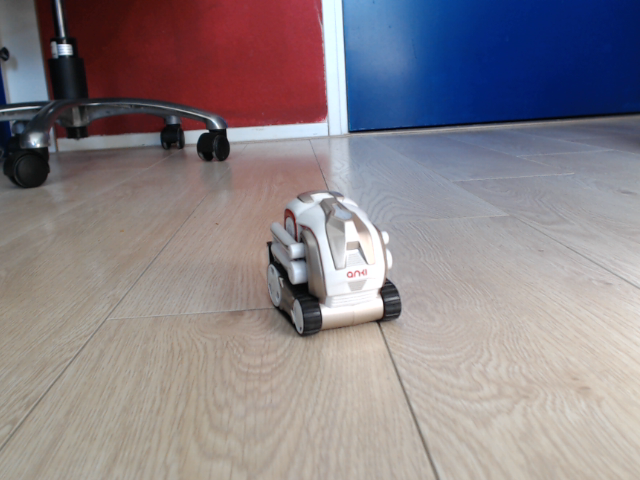cozmo: (260, 186, 410, 341)
